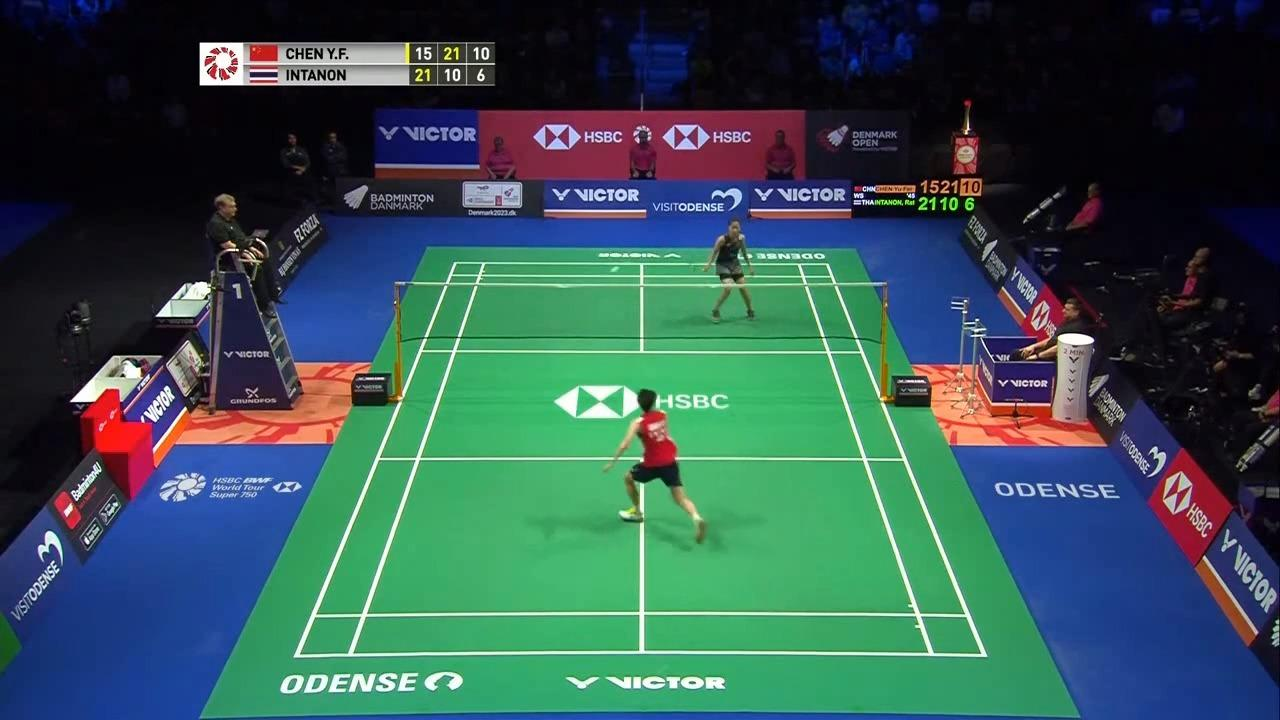shuttle: (608, 264, 624, 277)
